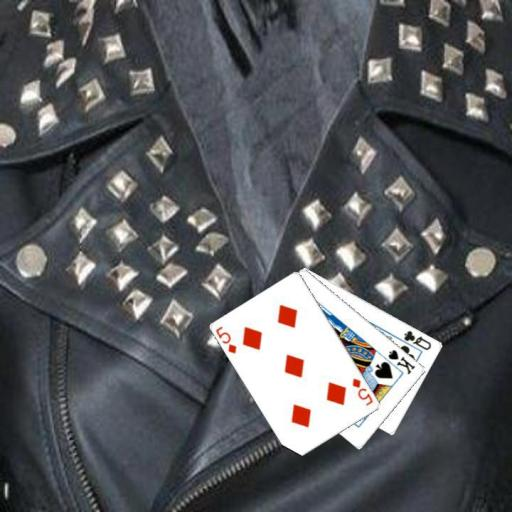5D: (349, 375, 375, 407), (213, 323, 238, 355)
KS: (385, 347, 417, 376)
QC: (401, 327, 433, 352)
